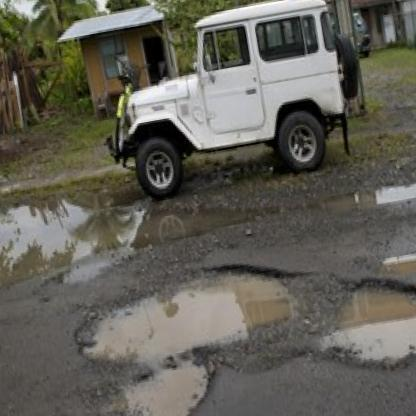pothole: (64, 247, 307, 381), (304, 255, 416, 381), (71, 352, 225, 416), (380, 244, 416, 284)
